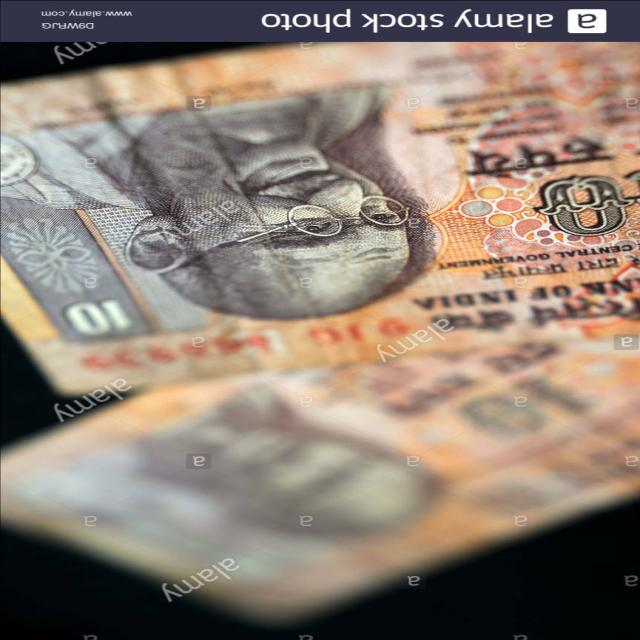10IndianRupees: (0, 43, 640, 399)
